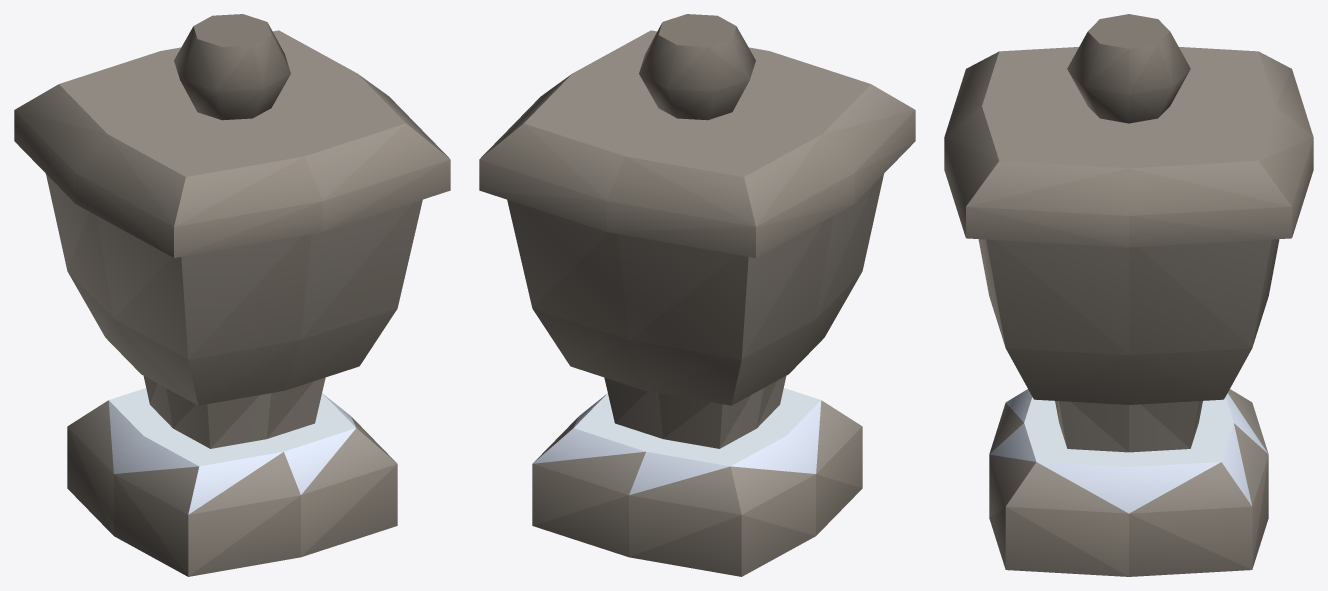
Rendered from kenney_graveyard_urn_square.glb.
The picture shows the model from 3 angles, left to right: view 1: azimuth 30°, elevation 25°; view 2: azimuth 150°, elevation 25°; view 3: azimuth 270°, elevation 25°; orthographic projection. The views are drawn at different scales.
Parts seen in each view (by area): view 1: stone, cloth; view 2: stone, cloth; view 3: stone, cloth.
Boxes of the visible parts, <box> form: stone: <box>14,14,450,576</box>; cloth: <box>108,388,355,514</box>; stone: <box>479,14,915,576</box>; cloth: <box>532,388,821,494</box>; stone: <box>944,14,1313,576</box>; cloth: <box>989,389,1267,513</box>.
Size of the model in its own units: 0.2644 by 0.384 by 0.2644.
